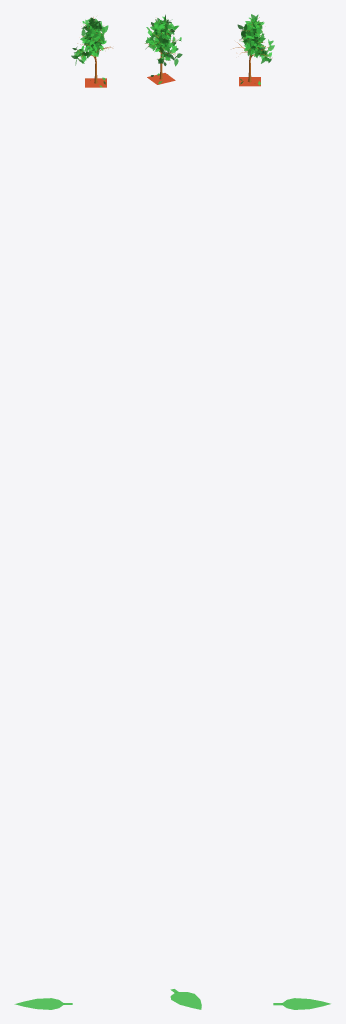
Rendered from sandlewood2.glb.
3 renders of one model, left to right at view 1: azimuth 90°, elevation 25°; view 2: azimuth 210°, elevation 25°; view 3: azimuth 270°, elevation 25°, orthographic. The views are drawn at different scales.
Parts seen in each view (by area): view 1: Plane.002; view 2: Plane.002, Plane; view 3: Plane.002.
Part boxes in pixels (x1,y1,x2,y2): Plane.002: (14,998,72,1009); Plane.002: (170,989,201,1009); Plane: (147,73,175,84); Plane.002: (273,998,330,1009).
Bounding box in the file's own units: 5.26 × 140 × 13.03.
